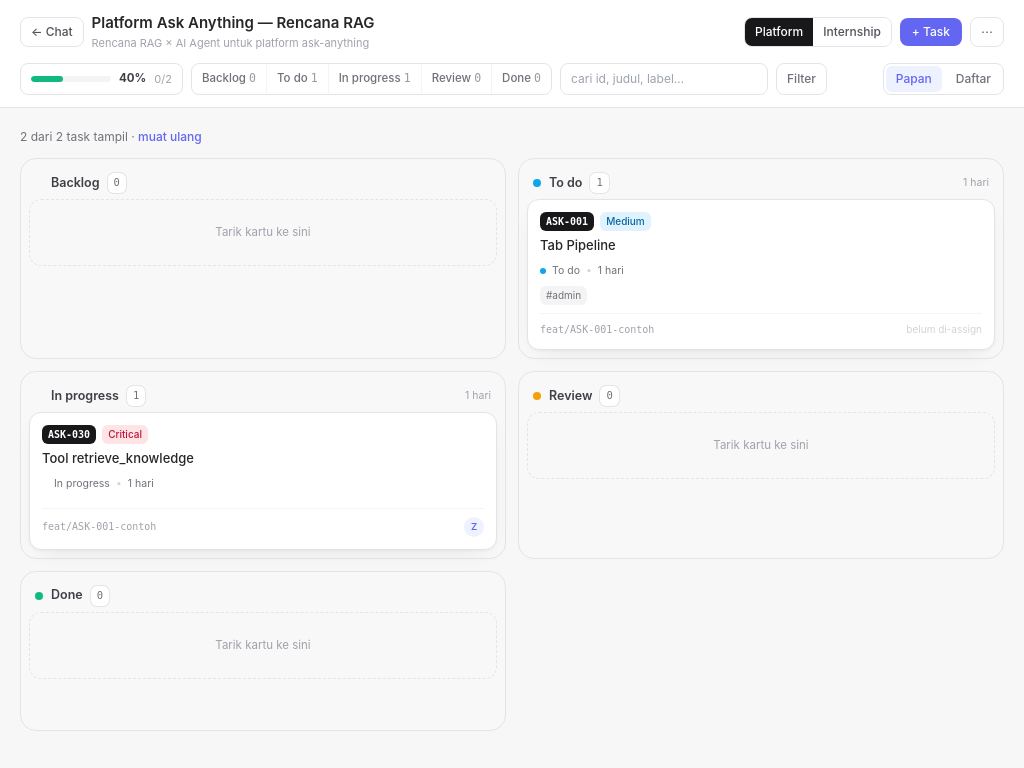
Test: TasksConsole — halaman /tasks › membuka detail menampilkan perintah branch GitLab siap salin
Expected: the heading "Tool retrieve_knowledge" is shown, [42,450,194,466]
Click the button with test id "task-open-ASK-030" at (69, 435), box [42,425,452,468]
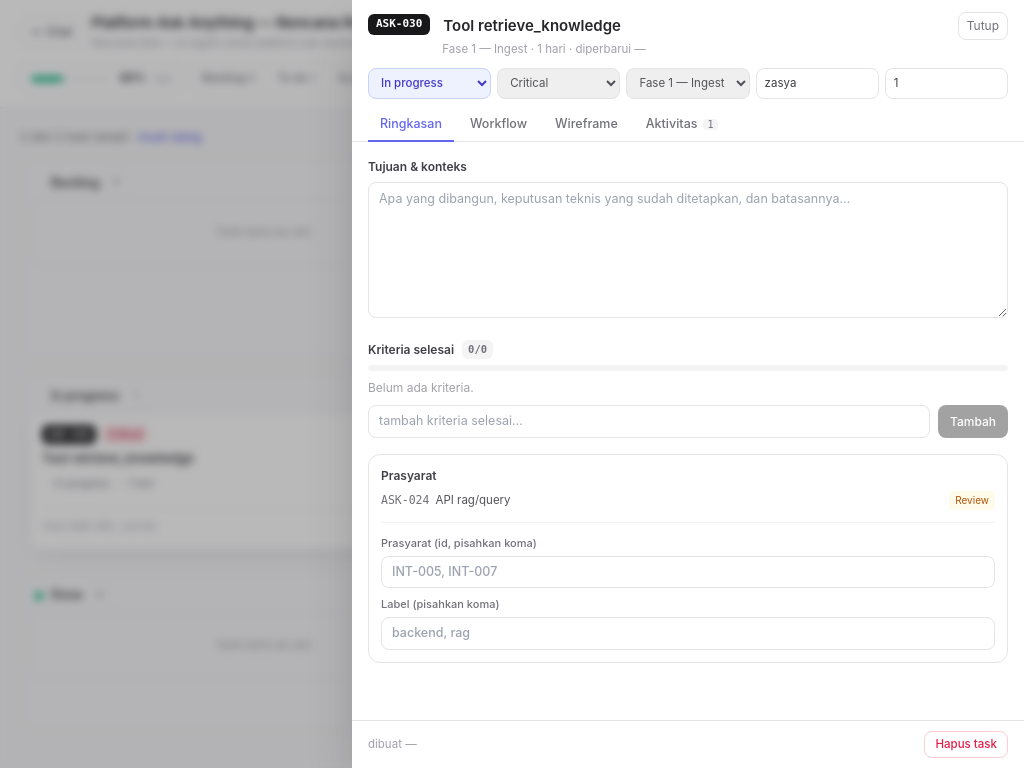
Result: the element with test id "task-detail" is shown
Result: the text "ASK-024" is shown at [381,492,430,509]
Click the tab "Aktivitas1" at (682, 125), box [634,109,730,142]
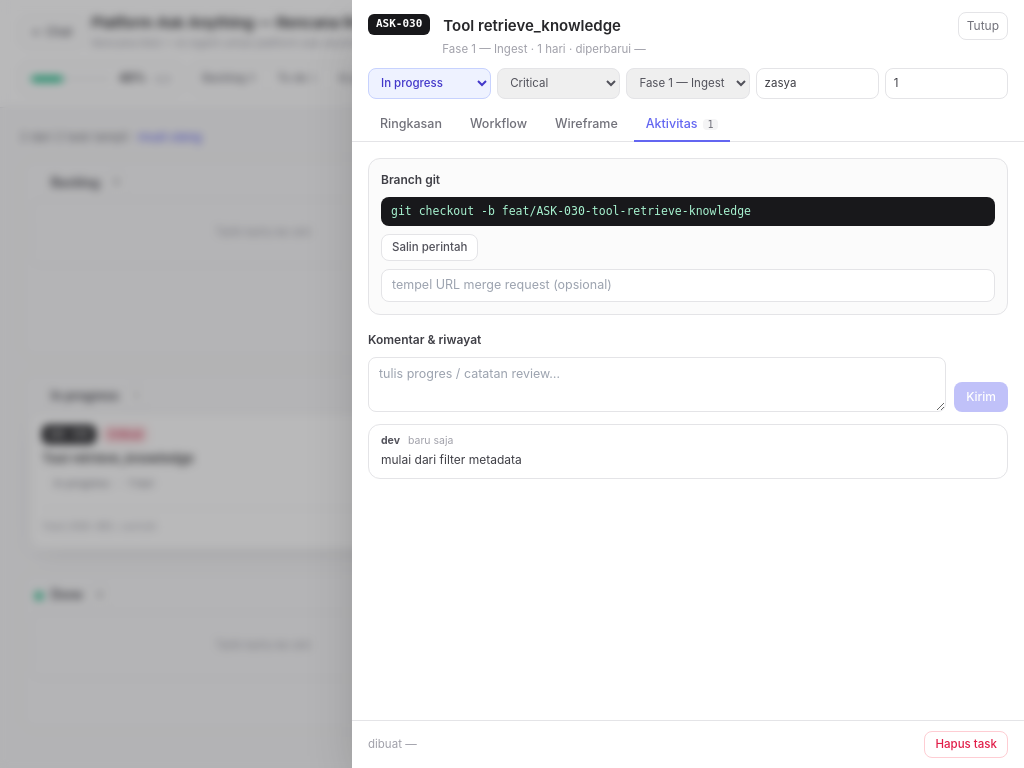
Result: the text "git checkout -b feat/ASK-030-tool-retrieve-knowledge" is shown at [381,197,995,226]
Result: the text "mulai dari filter metadata" is shown at [381,452,522,467]
